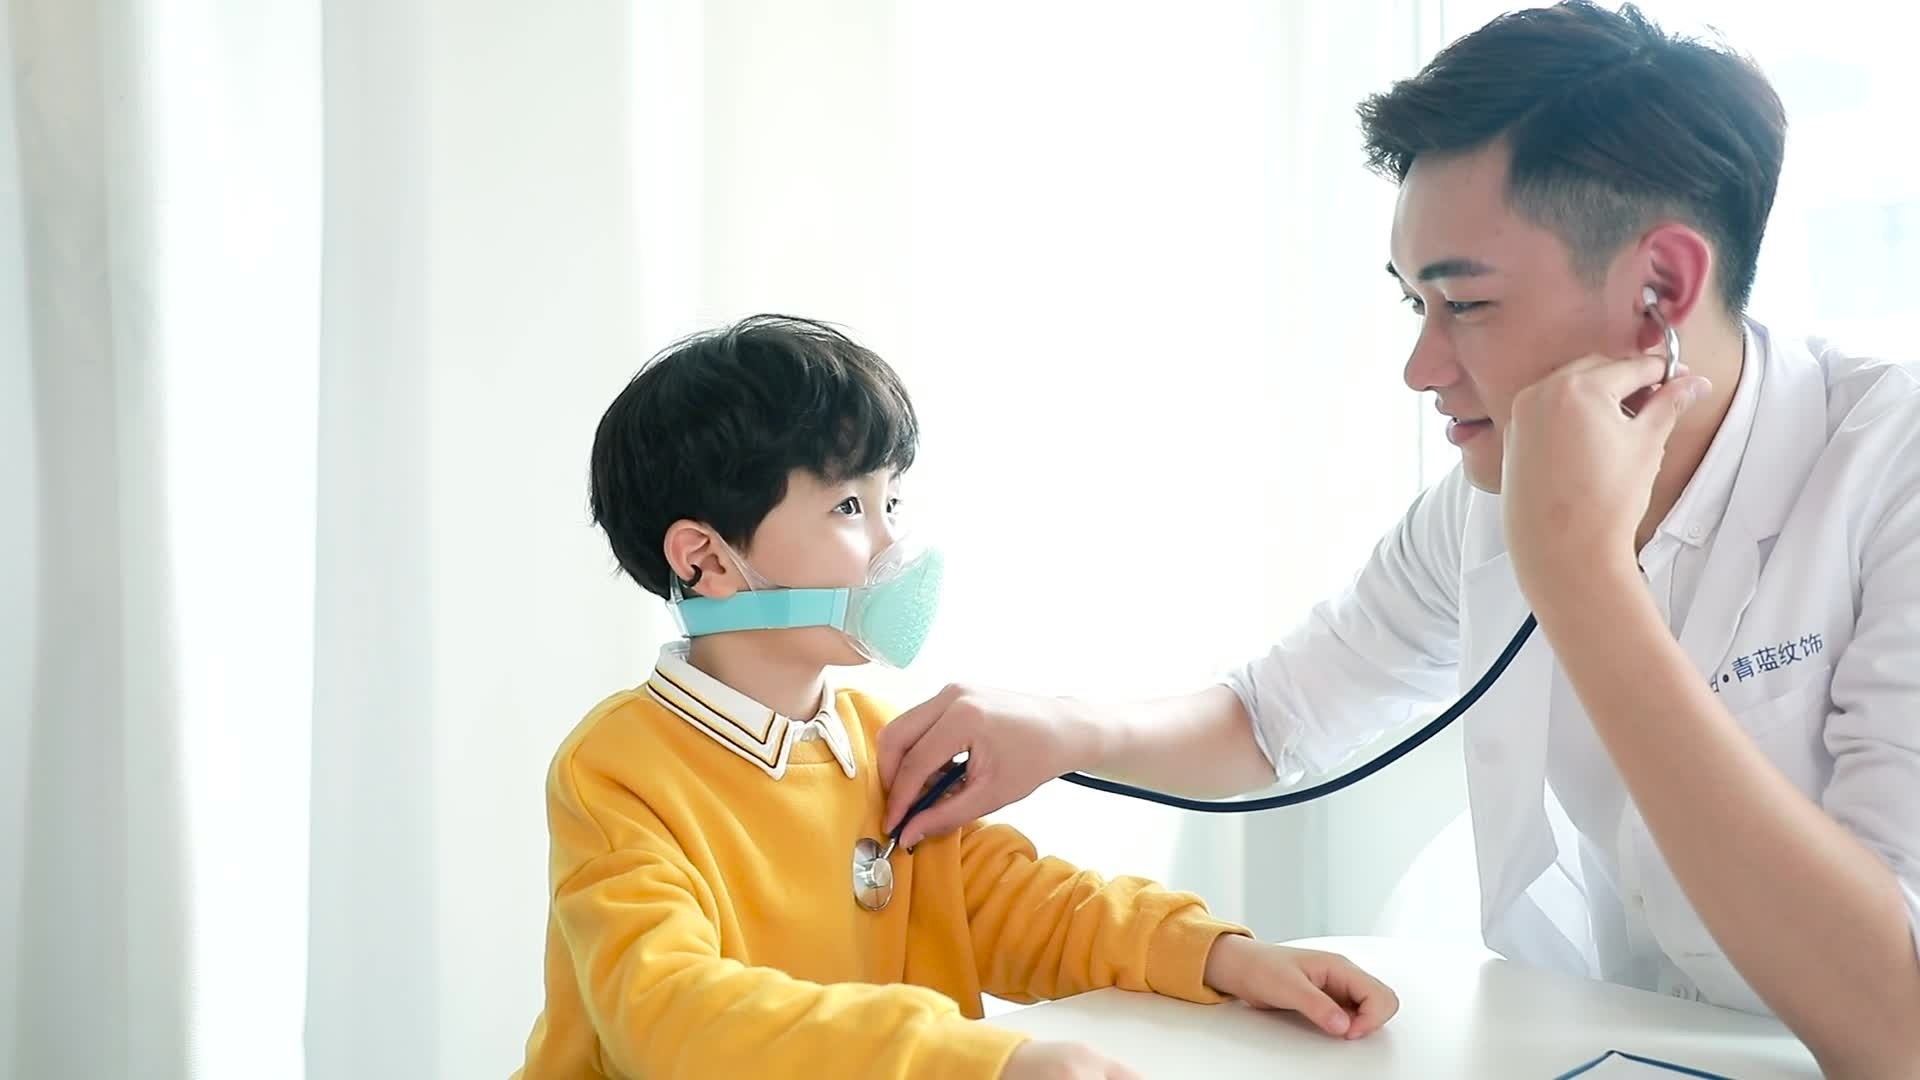face_no_mask: (1369, 96, 1737, 552)
face_with_mask: (683, 431, 968, 717)
